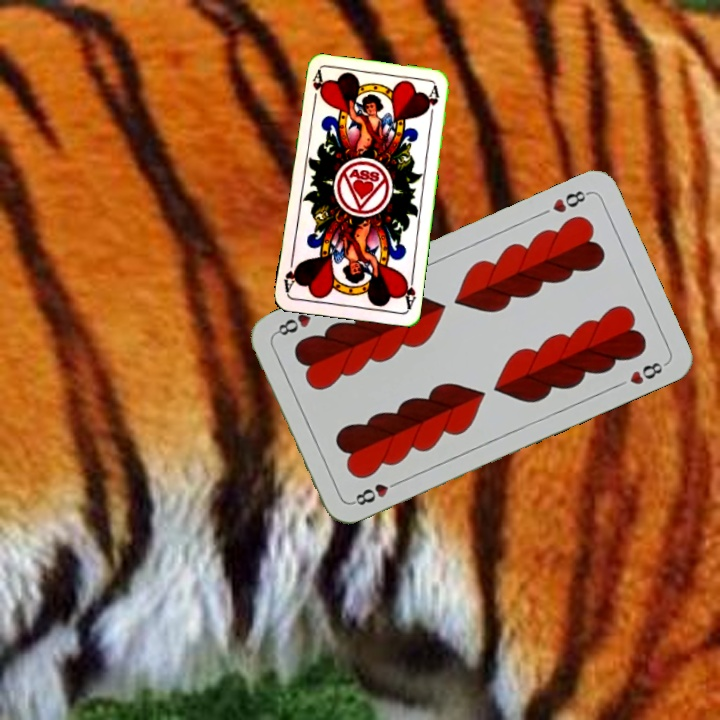H8: (348, 476, 404, 508), (548, 186, 592, 215)
HA: (398, 270, 418, 311), (309, 68, 325, 108)
